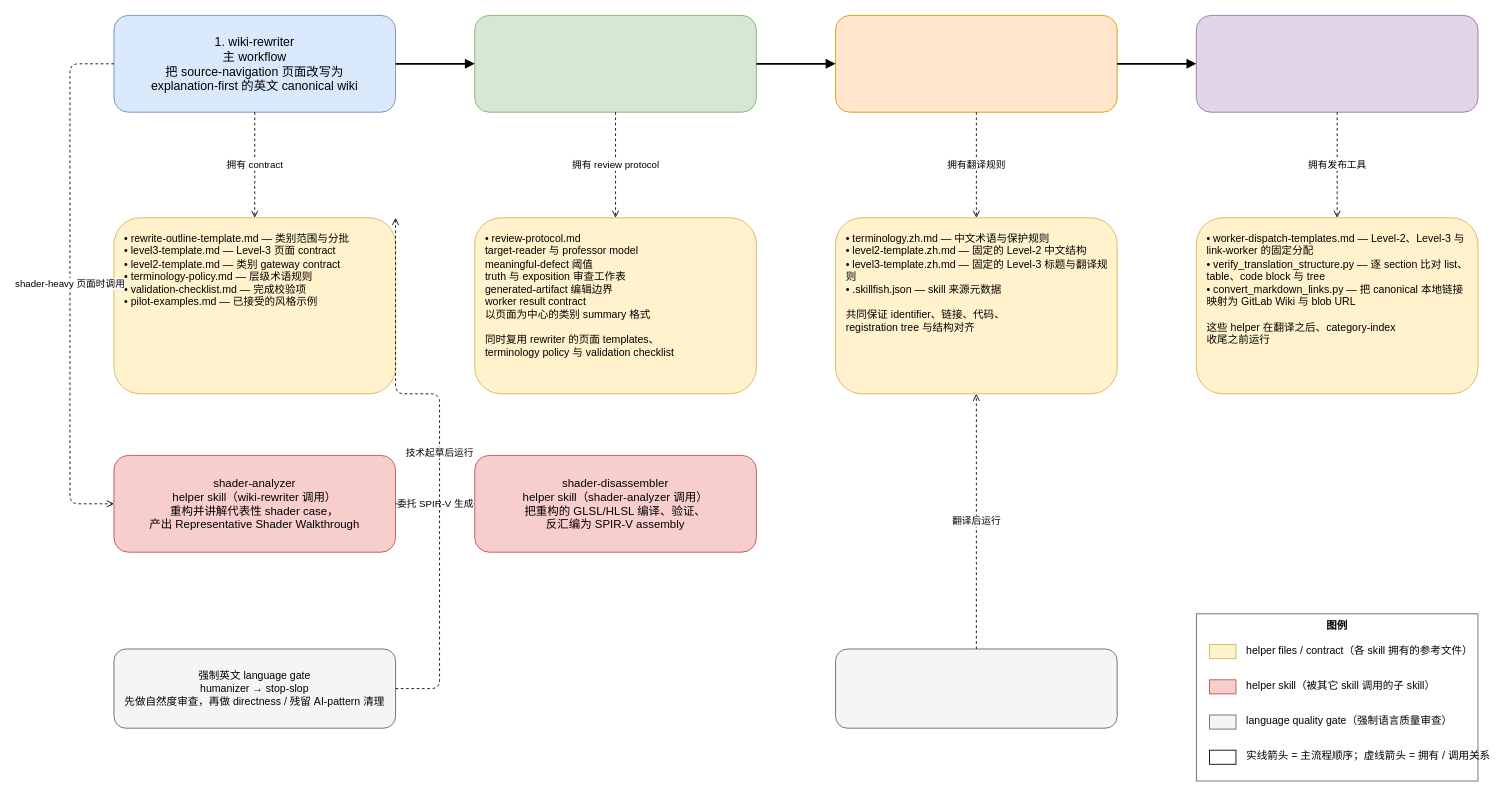
Image size: 1506x796. Some labels were removed from this diagram. The centre of each missing label's shape, as x and y in pixels:
2. wiki-auditor 主 review workflow 审查技术正确性与解释充分性， 就地修正已确认的缺陷: pixel 615 63
3. translate-doc 主 translation workflow 把稳定的英文 canonical 页面翻译为 受保护、结构对齐的中文页面: pixel 976 63
4. wiki-publisher publishing orchestrator 分发类别翻译、校验结构、转换链接、 并完成发布导航: pixel 1336 63
强制中文 language gate shuorenhua → humanizer-zh 先做技术中文自然度审查，再做残留 AI-pattern 清理: pixel 976 688
